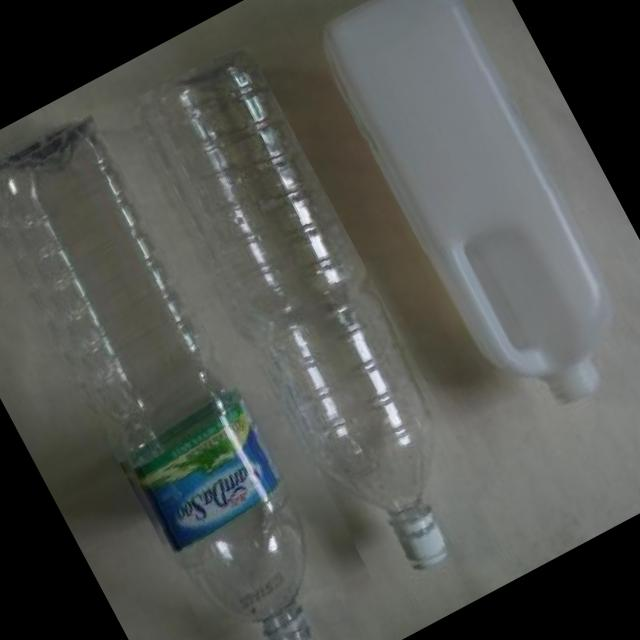plastic bottle: (119, 39, 504, 594), (0, 110, 355, 640), (304, 0, 640, 432)
